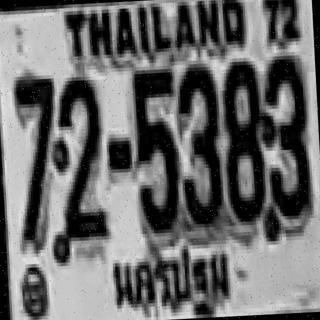N02: (52, 74, 104, 230)
N03: (258, 52, 312, 235), (174, 63, 223, 225)
N05: (130, 65, 179, 231)
N07: (12, 70, 61, 242)
N08: (219, 59, 268, 224)
P28: (104, 245, 235, 320)
